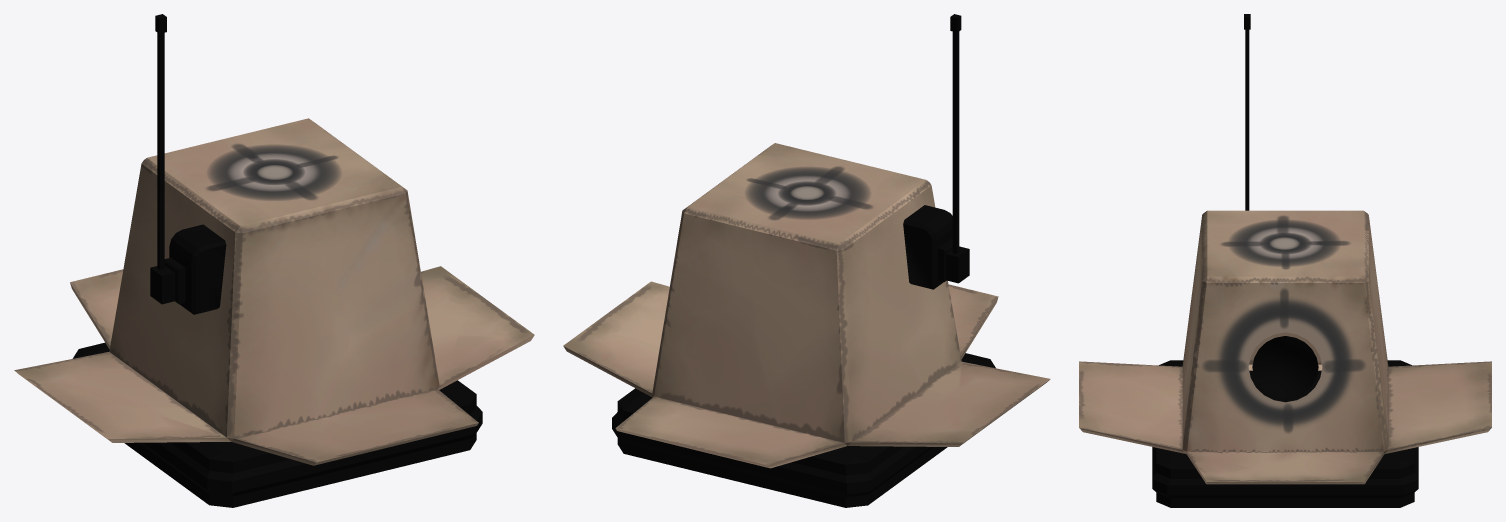
Rendered from antenna turret.fbx.
3 renders of one model, left to right at view 1: azimuth 30°, elevation 25°; view 2: azimuth 150°, elevation 25°; view 3: azimuth 270°, elevation 25°, orthographic. The views are drawn at different scales.
Parts seen in each view (by area): view 1: launcher, base, launcher.001, Plane; view 2: launcher, base, launcher.001, Plane; view 3: launcher, base, Plane.
Boxes of the visible parts, left/top/right/bottom form: launcher: left=14, top=118, right=534, bottom=465; base: left=72, top=342, right=482, bottom=507; launcher.001: left=164, top=224, right=226, bottom=314; Plane: left=150, top=14, right=175, bottom=304; launcher: left=563, top=143, right=1050, bottom=468; base: left=612, top=353, right=995, bottom=507; launcher.001: left=903, top=205, right=952, bottom=289; Plane: left=946, top=14, right=969, bottom=283; launcher: left=1079, top=210, right=1491, bottom=484; base: left=1152, top=360, right=1418, bottom=507; Plane: left=1244, top=14, right=1250, bottom=210.
Bounding box in the file's own units: 399 × 410 × 399.
3 materials, 1 textured.
